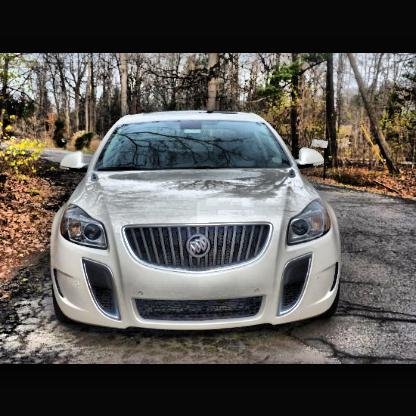Buick Regal GS 2012: (50, 106, 343, 329)
